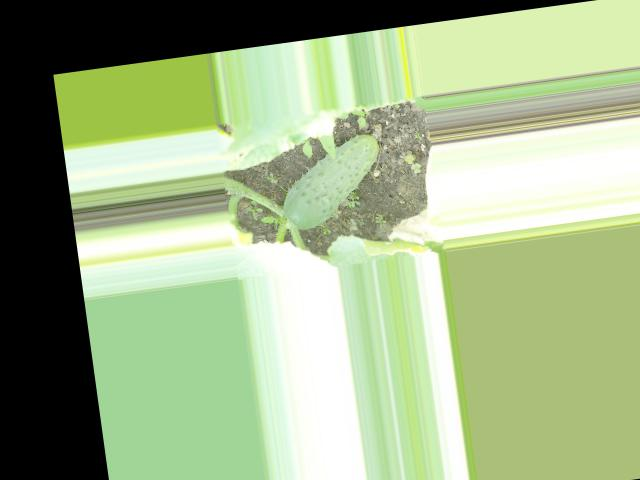cucumber: (273, 132, 388, 232)
